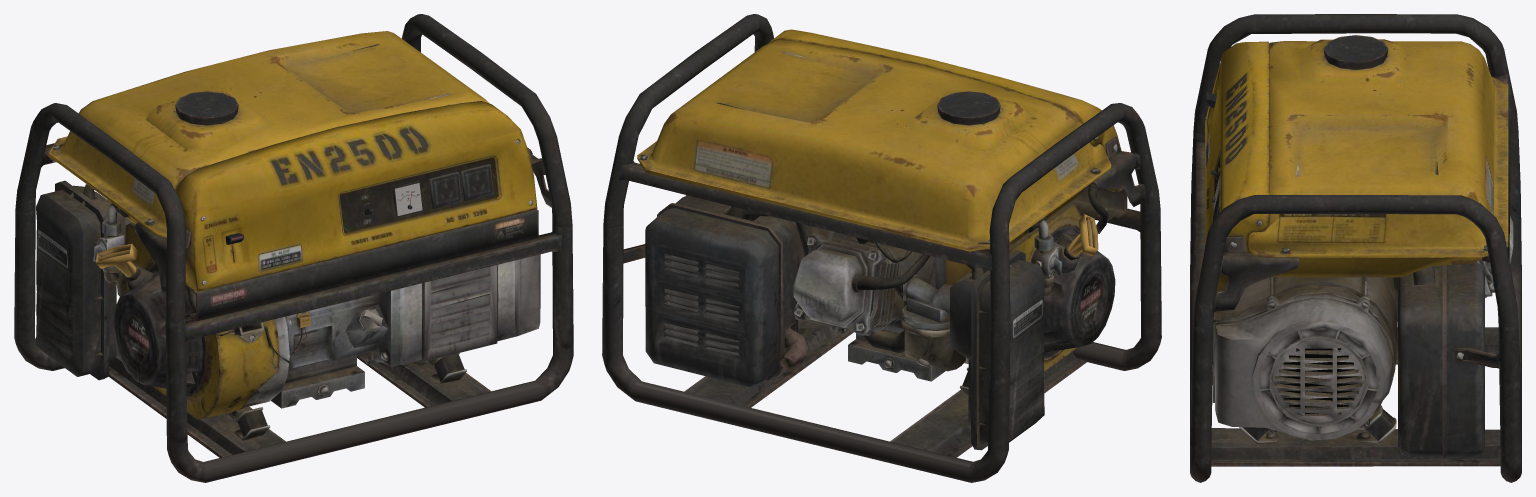
The model's file is portable_generator.glb.
The picture shows the model from 3 angles, left to right: view 1: azimuth 30°, elevation 25°; view 2: azimuth 150°, elevation 25°; view 3: azimuth 270°, elevation 25°; orthographic projection.
Parts seen in each view (by area): view 1: portable_generator; view 2: portable_generator; view 3: portable_generator.
Part boxes in pixels (<box>): portable_generator: <box>14,14,573,482</box>; portable_generator: <box>602,14,1161,482</box>; portable_generator: <box>1190,14,1521,482</box>.
Size of the model in its own units: 0.8174 by 0.5766 by 0.5641.
Materials: 2 (2 with a texture image).
